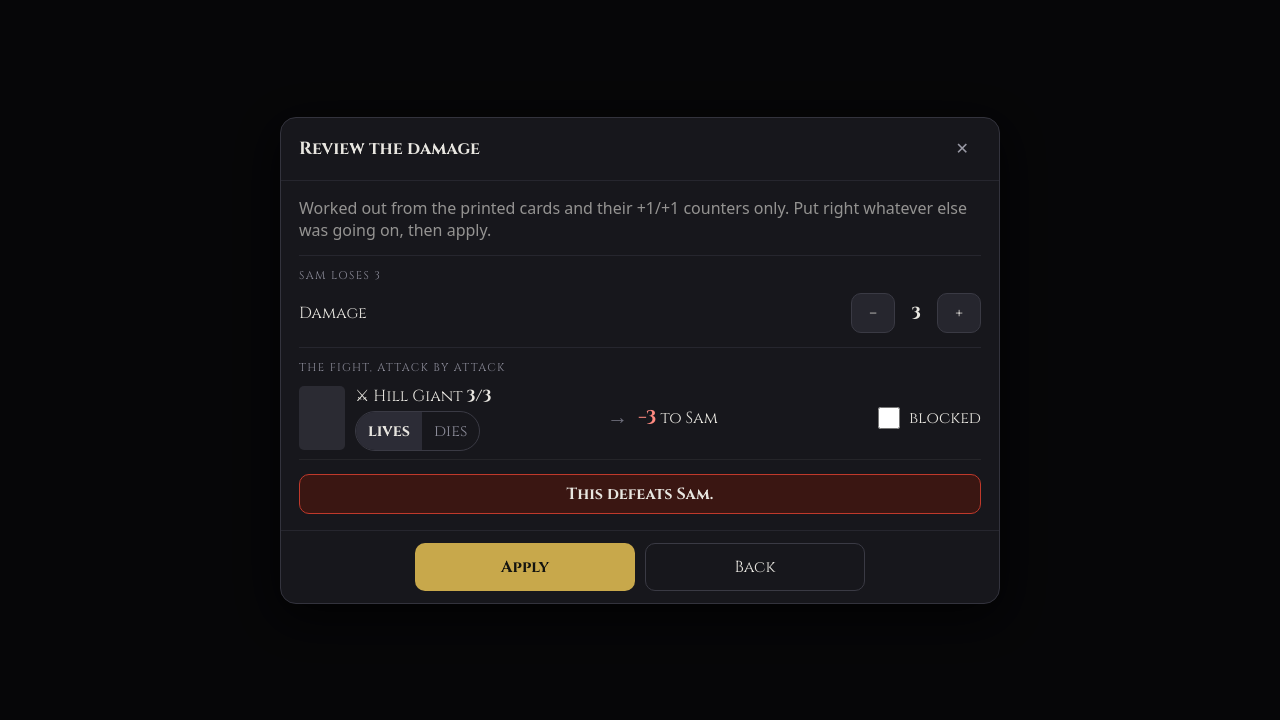
Test: what a change does › it says so when the result would defeat a player
The image size is (1280, 720).
Expected: the message reads "This defeats Sam.", [299,474,981,514]
What coordinates should you click on to do the following:
click the button named "less damage to Sam"
I would click on:
 (873, 312)
Its box is [851,292,895,332].
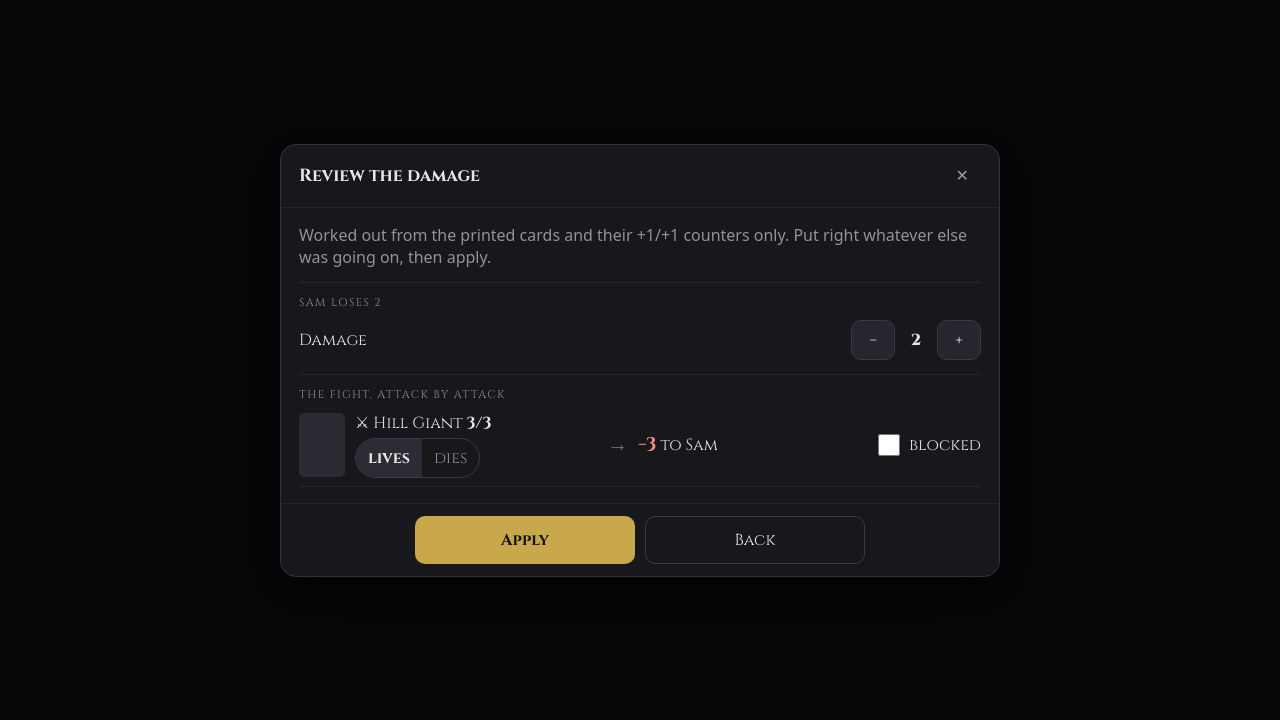
Expected: the message "This defeats Sam." is gone
